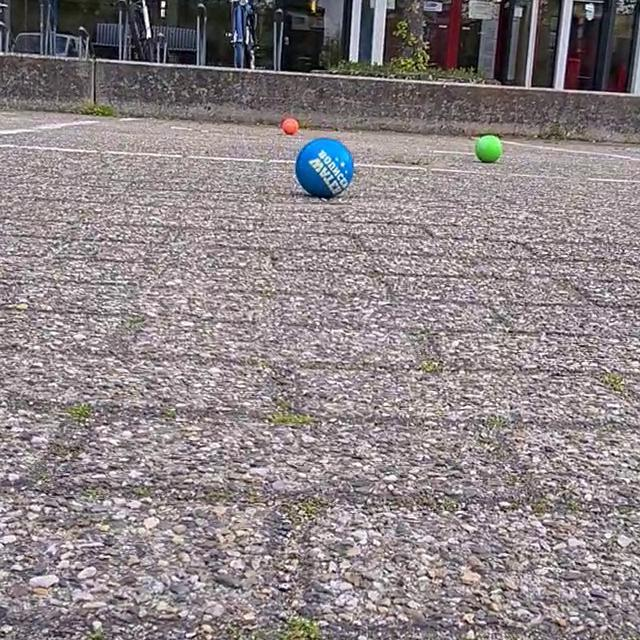ball: (472, 130, 504, 163), (278, 113, 300, 138)
